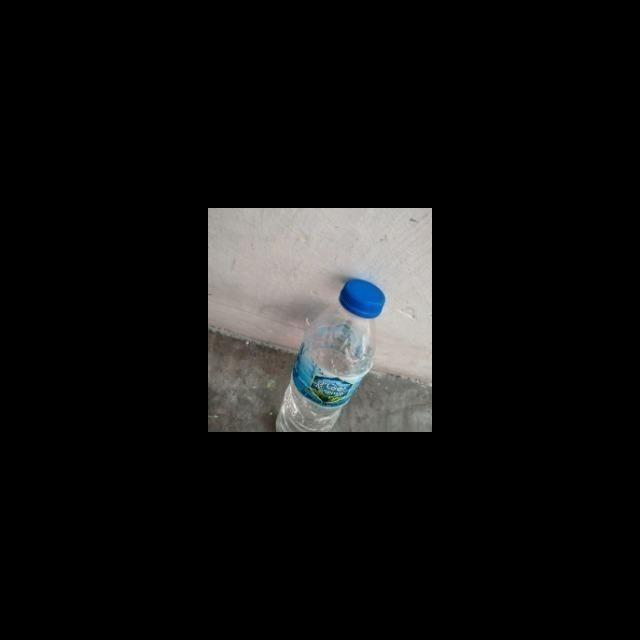plastic: (275, 277, 387, 431)
